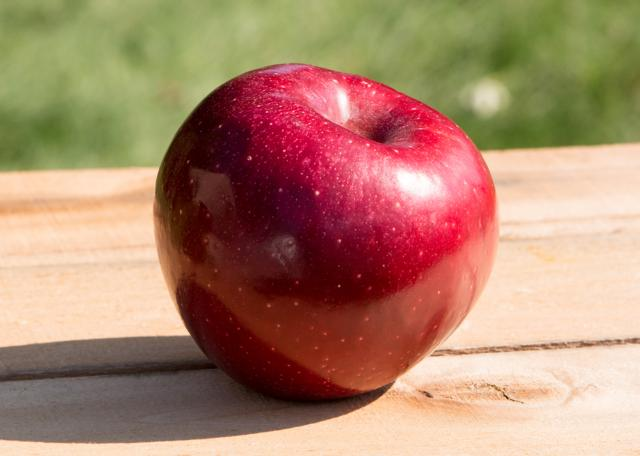Apples: (154, 63, 498, 402)
